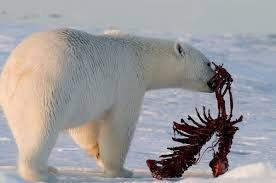bear: (0, 17, 220, 180)
